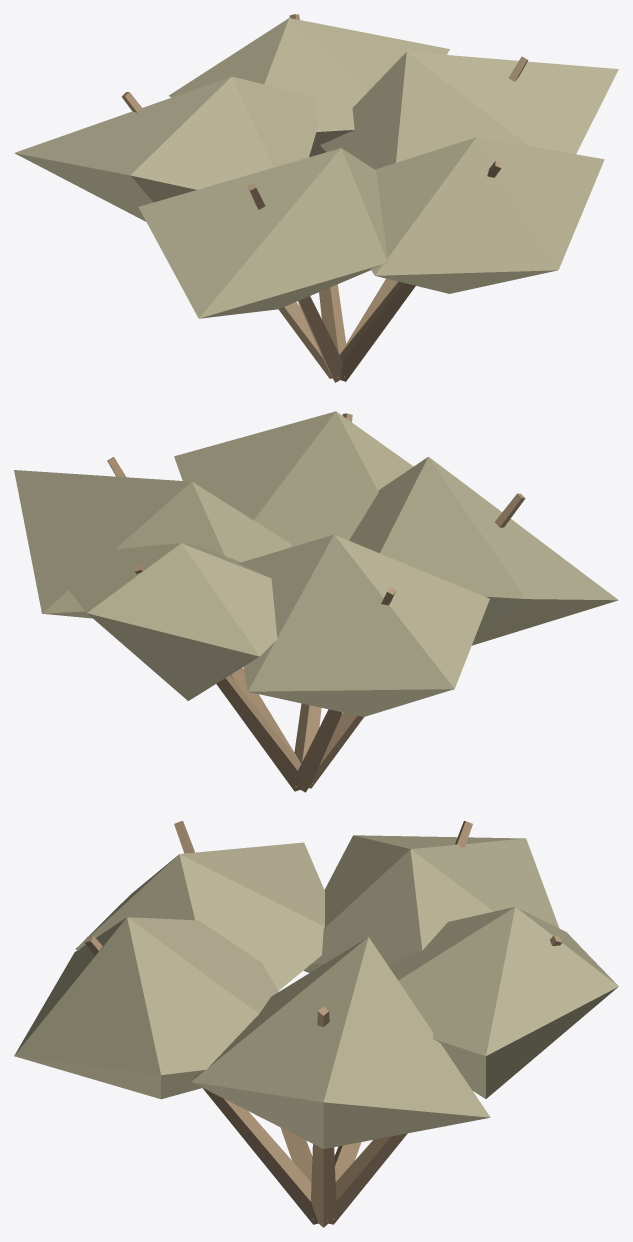
The picture shows the model from 3 angles, top to bottom: view 1: azimuth 30°, elevation 25°; view 2: azimuth 150°, elevation 25°; view 3: azimuth 270°, elevation 25°; orthographic projection. The views are drawn at different scales.
Bounding box in the file's own units: 1.81 × 0.9755 × 1.59.
